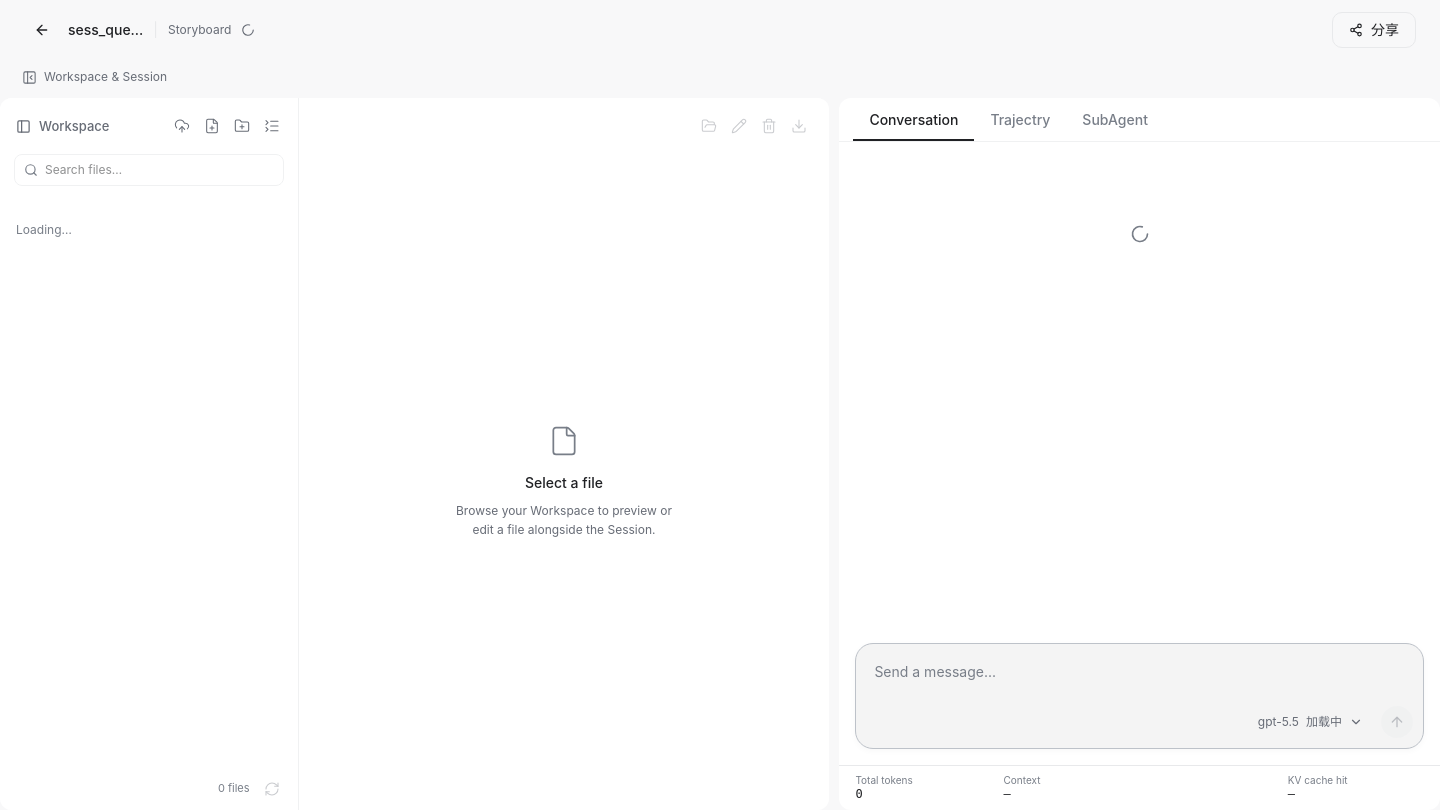
keeps typing and focus intact while a Workspace listing is pending and after it resolves
The image size is (1440, 810).
In the text box with placeholder "Send a message...": (1140, 678) [864, 652, 1415, 704], type "继续输入中文 draft"
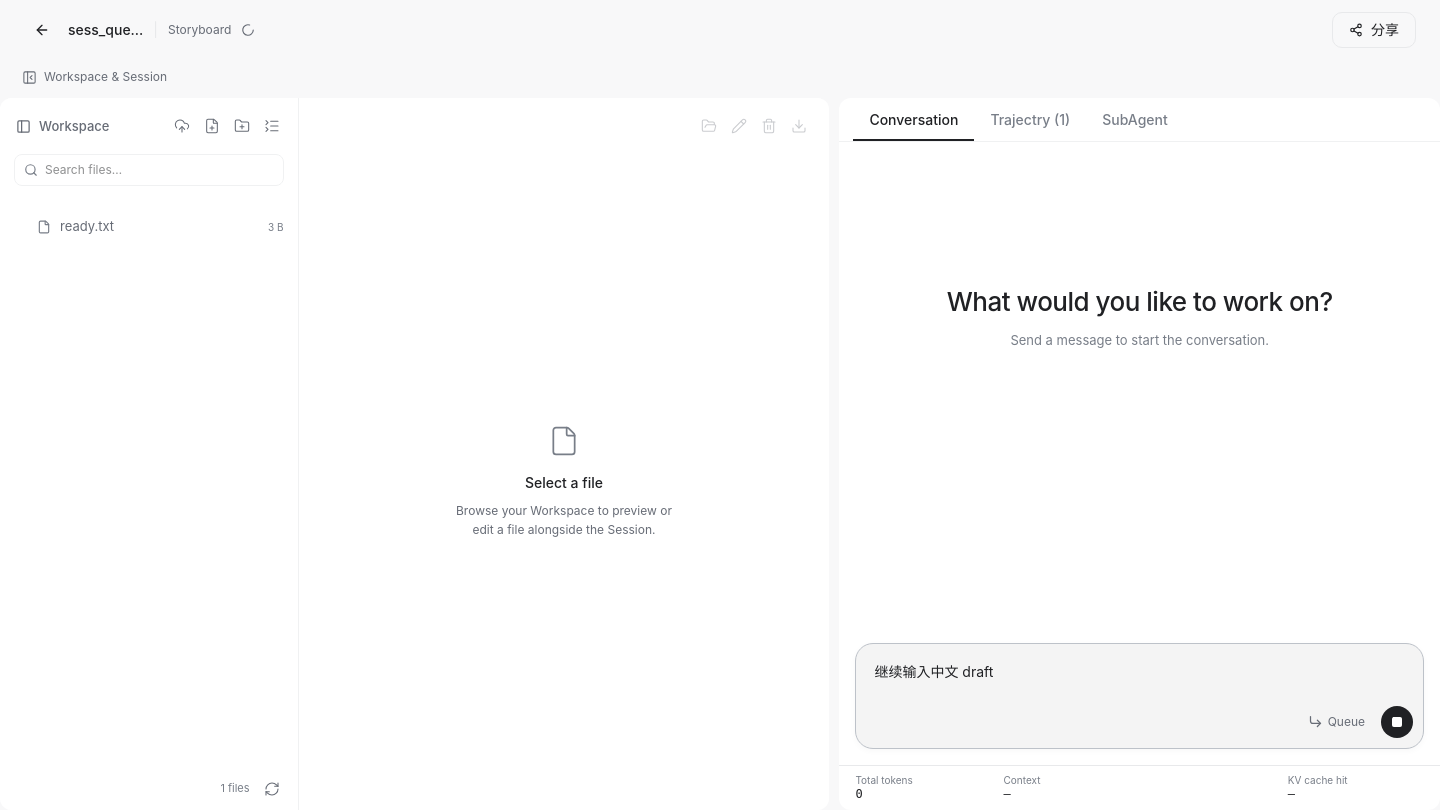
Expected: the text "ready.txt" is shown, [60, 218, 114, 234]
